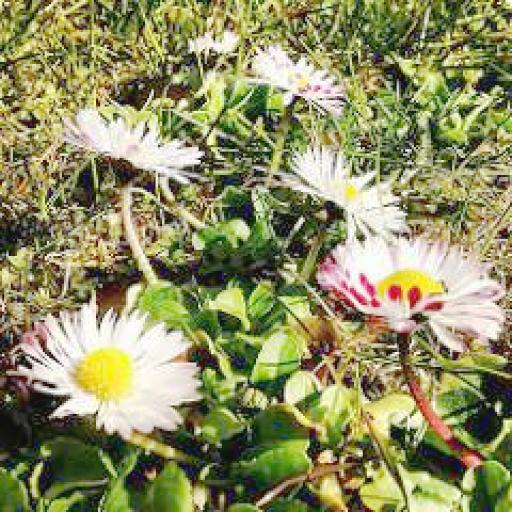daisy: (26, 305, 194, 450), (320, 235, 506, 337), (286, 145, 405, 239), (70, 109, 196, 177), (250, 40, 339, 109)
